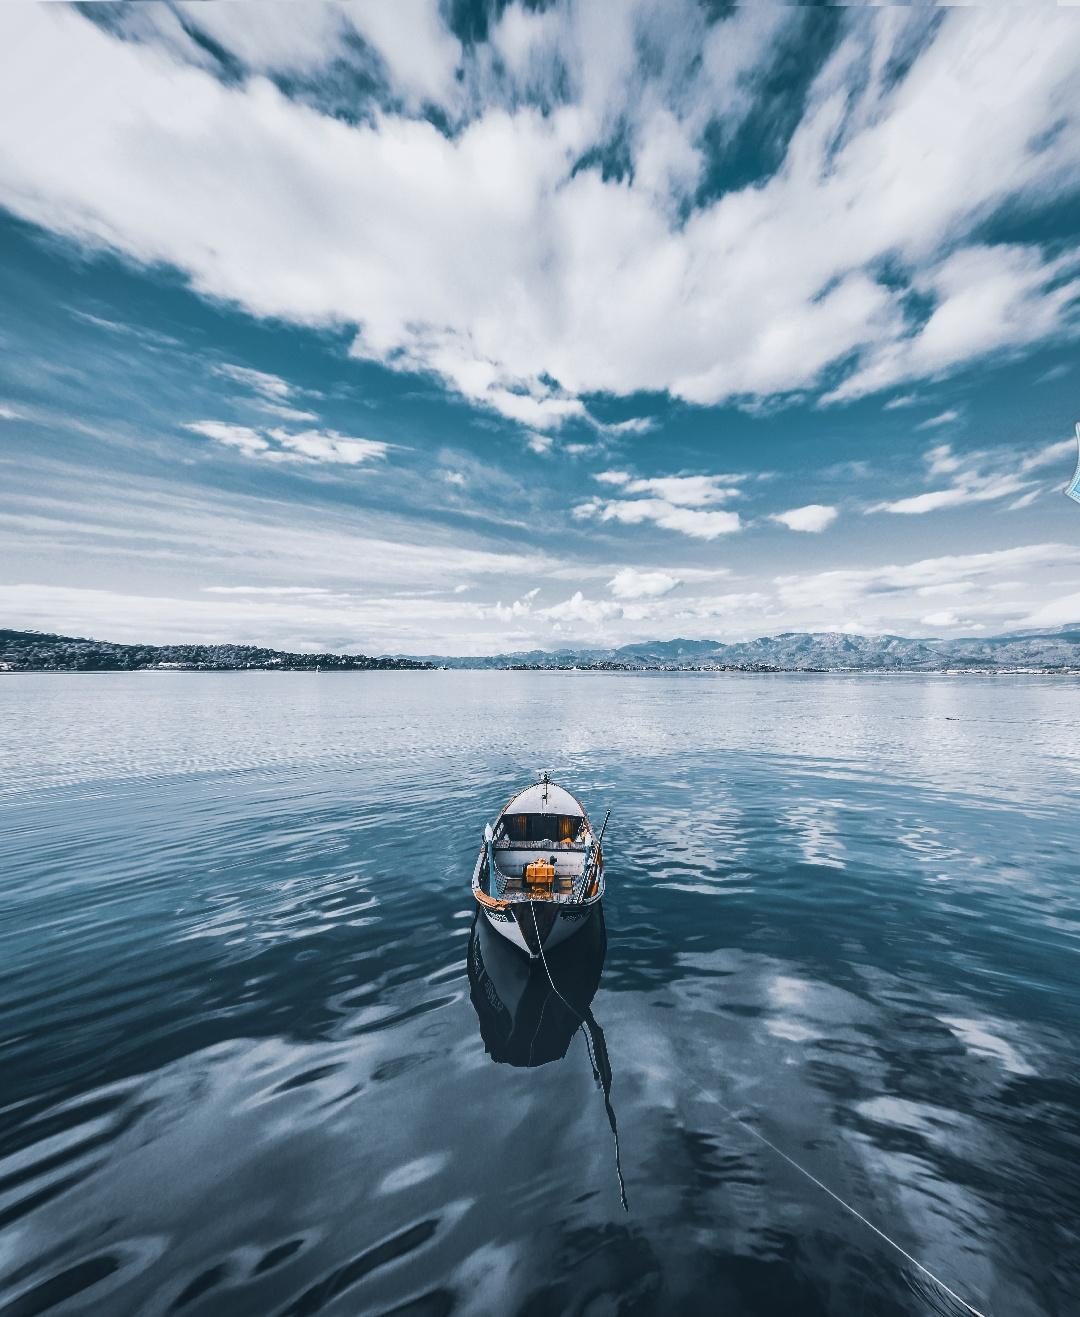trash: (1021, 412, 1080, 525)
